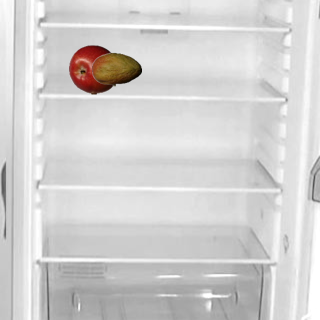Apple Braeburn: (68, 44, 118, 94)
Papaya: (91, 44, 141, 94)
